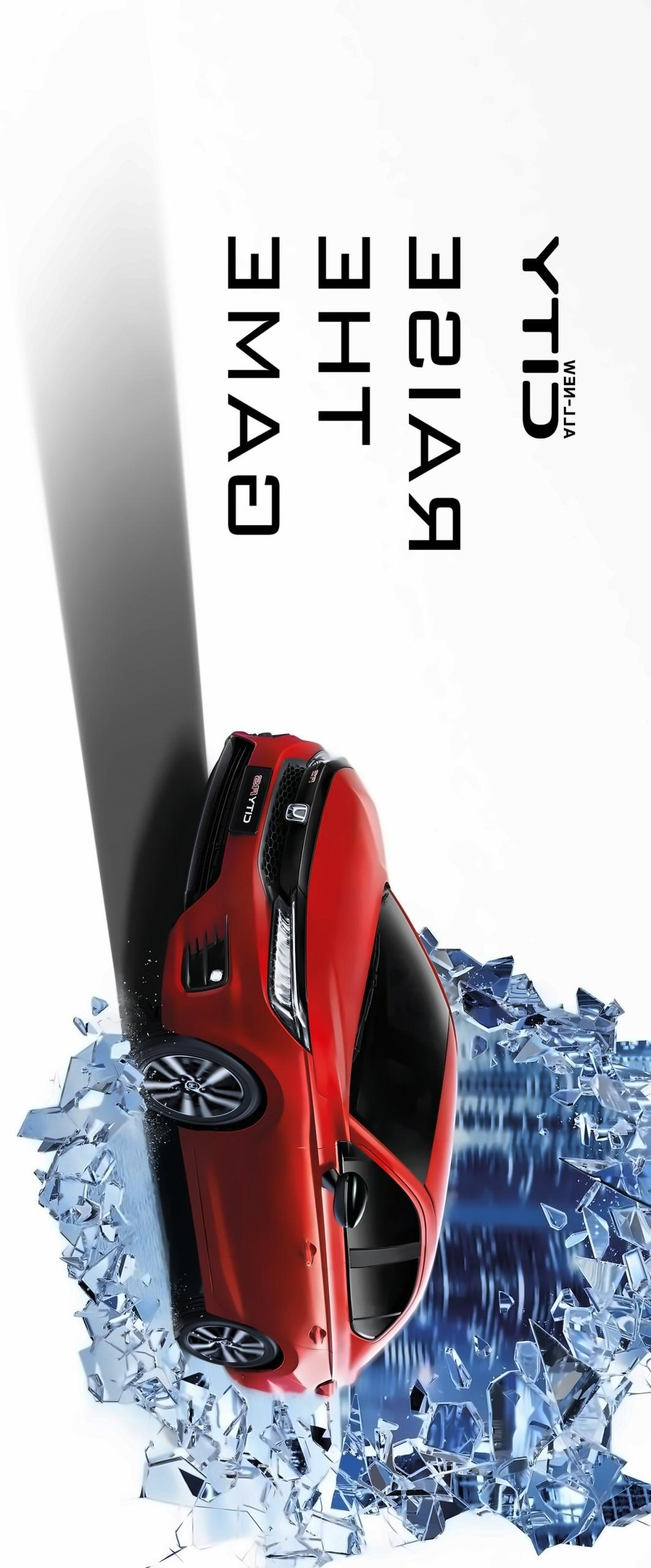Car hood: (299, 761, 387, 1094)
Fender - -F-L-: (177, 1045, 363, 1147)
Fender - -R-L-: (277, 1340, 355, 1391)
Front bumper: (153, 720, 298, 1062)
Headlight - -L-: (260, 885, 317, 1060)
Headlight - -R-: (299, 734, 355, 783)
Passenger-s door - -F-L-: (190, 1147, 439, 1259)
Passenger-s door - -R-L-: (208, 1257, 432, 1340)
Rear bumper: (215, 1360, 290, 1422)
Rear light - -L-: (312, 1374, 348, 1418)
Side bumper - -L-: (169, 1113, 224, 1319)
Side mirror - -L-: (322, 1156, 372, 1236)
